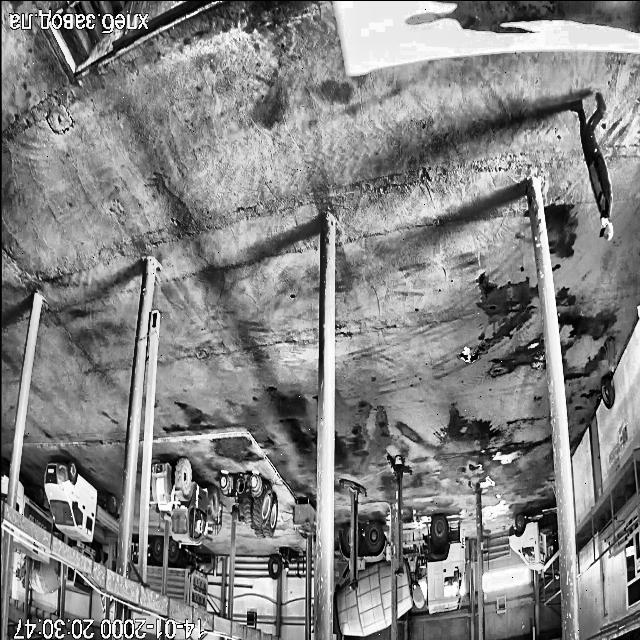class4: (569, 93, 612, 240)
class6: (151, 458, 222, 544), (220, 474, 278, 537)
class7: (396, 516, 464, 616), (334, 522, 392, 635), (44, 460, 119, 540), (166, 539, 207, 612), (508, 514, 556, 570), (16, 482, 52, 532), (30, 557, 60, 594), (146, 538, 163, 592), (12, 538, 48, 562), (66, 567, 91, 595), (70, 543, 104, 563), (0, 461, 8, 500), (16, 479, 24, 510), (132, 542, 140, 566), (19, 564, 24, 587), (130, 569, 136, 580)
truck: (387, 455, 411, 574), (340, 479, 365, 588)
